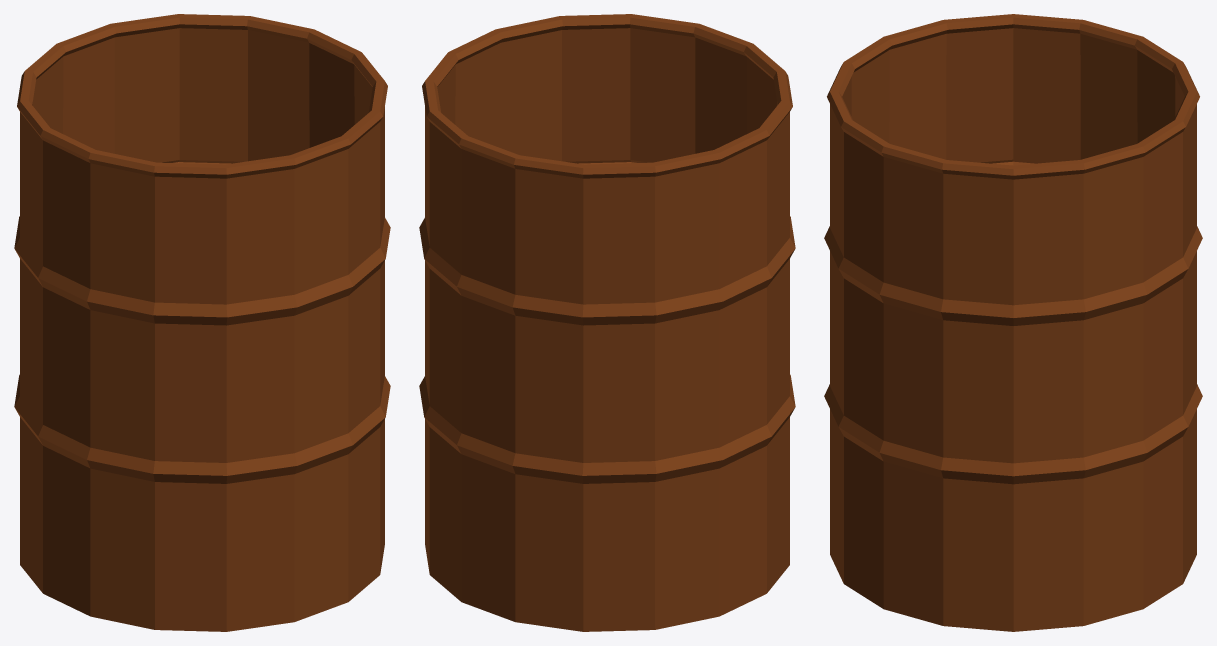
File: SM_barrel_1.gltf
The picture shows the model from 3 angles, left to right: view 1: azimuth 30°, elevation 25°; view 2: azimuth 150°, elevation 25°; view 3: azimuth 270°, elevation 25°; orthographic projection.
Visible parts, largest first — view 1: SM_barrel_1; view 2: SM_barrel_1; view 3: SM_barrel_1.
Boxes of the visible parts, x1,y1,x2,y2 form: SM_barrel_1: [14, 14, 390, 631]; SM_barrel_1: [419, 14, 795, 631]; SM_barrel_1: [824, 14, 1202, 631].
Size of the model in its own units: 0.6574 by 0.8861 by 0.6574.
1 material, 1 textured.
